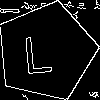L: (21, 26, 54, 74)
